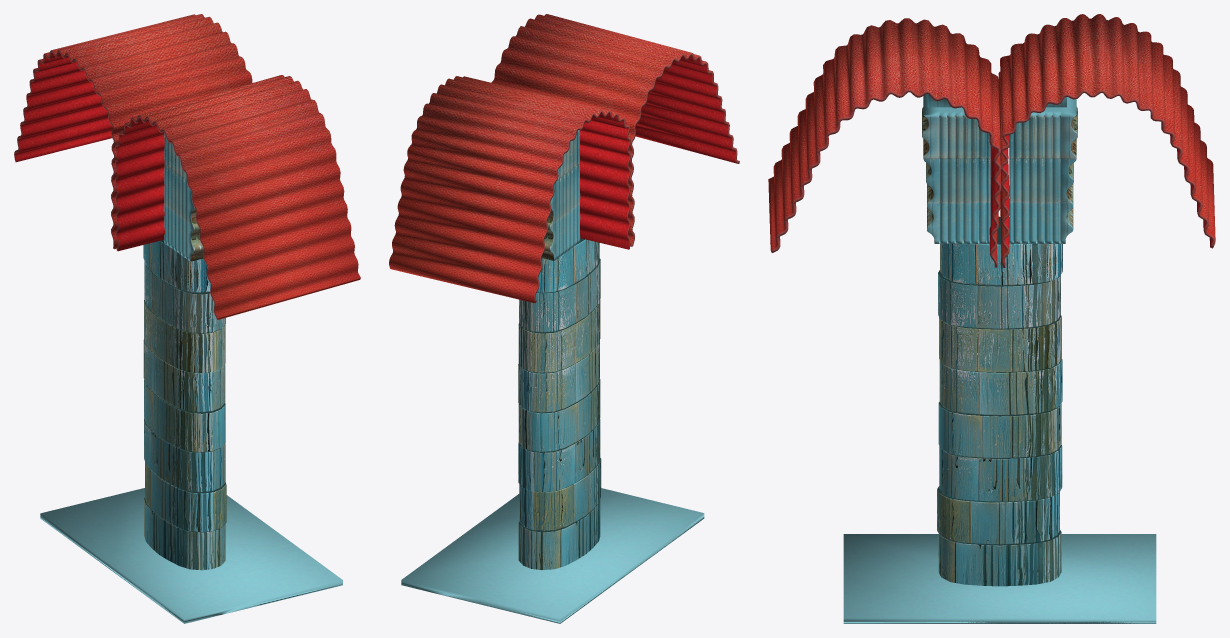
File: Fendi-KuengCaputo_RomanMolds_2019_1.glb
3 renders of one model, left to right at view 1: azimuth 30°, elevation 25°; view 2: azimuth 150°, elevation 25°; view 3: azimuth 270°, elevation 25°, orthographic. The views are drawn at different scales.
Parts seen in each view (by area): view 1: _Teen_bac5group1; view 2: _Teen_bac5group1; view 3: _Teen_bac5group1.
Part boxes in pixels (bbox=[...]): _Teen_bac5group1: bbox=[14, 14, 360, 623]; _Teen_bac5group1: bbox=[389, 14, 739, 623]; _Teen_bac5group1: bbox=[768, 14, 1215, 623].
Size of the model in its own units: 0.8415 by 2.45 by 1.88.
1 material, 1 textured.
